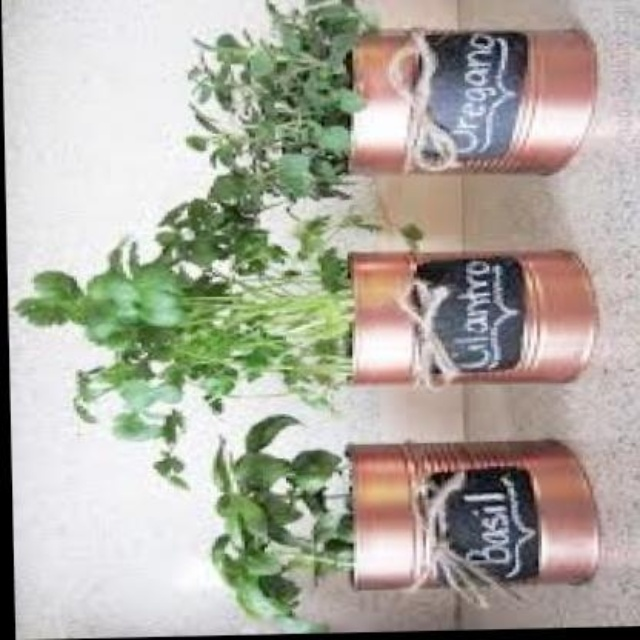trash: (348, 442, 597, 588), (351, 31, 594, 171), (351, 251, 592, 383)
